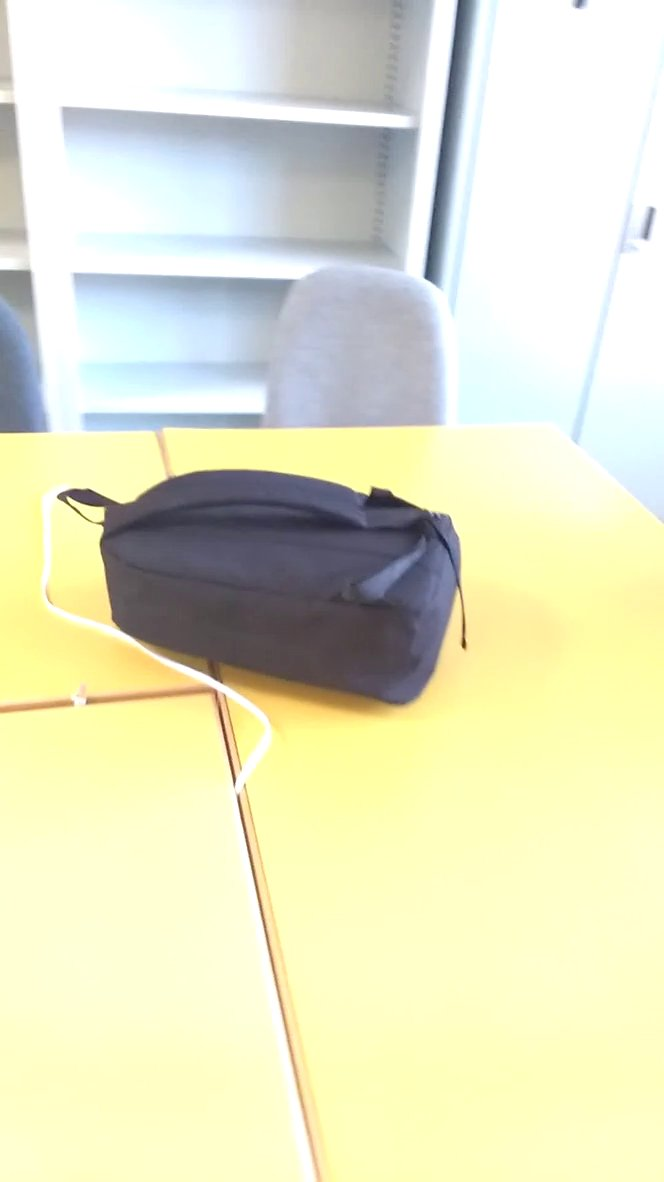bag: (47, 462, 484, 719)
chair: (238, 252, 474, 447)
